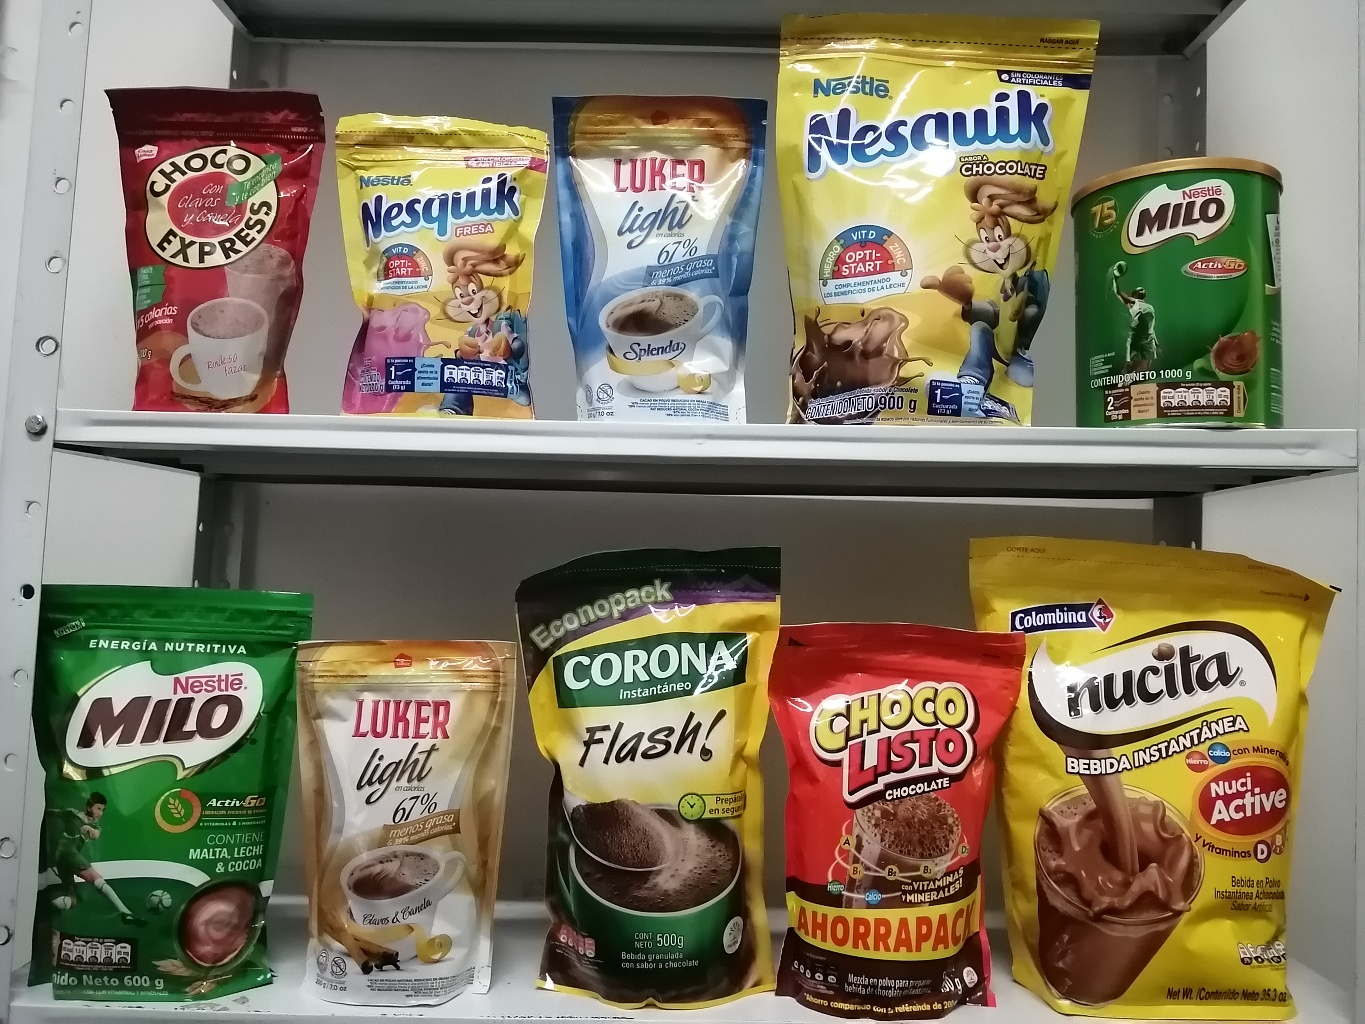COL0170103DYP40000: (767, 620, 1016, 1019)
COL0170305DYP20000: (327, 98, 557, 426)
